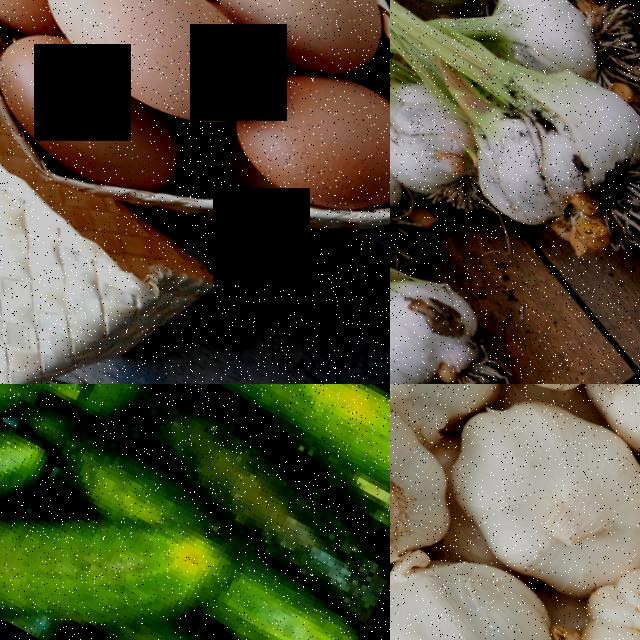cucumber: (96, 384, 390, 610), (0, 450, 232, 640), (184, 384, 390, 520)
egg_: (7, 0, 286, 149), (212, 38, 390, 240), (0, 32, 192, 213), (163, 0, 390, 79)
garlic: (409, 384, 640, 619), (390, 514, 564, 640), (390, 384, 469, 606)
